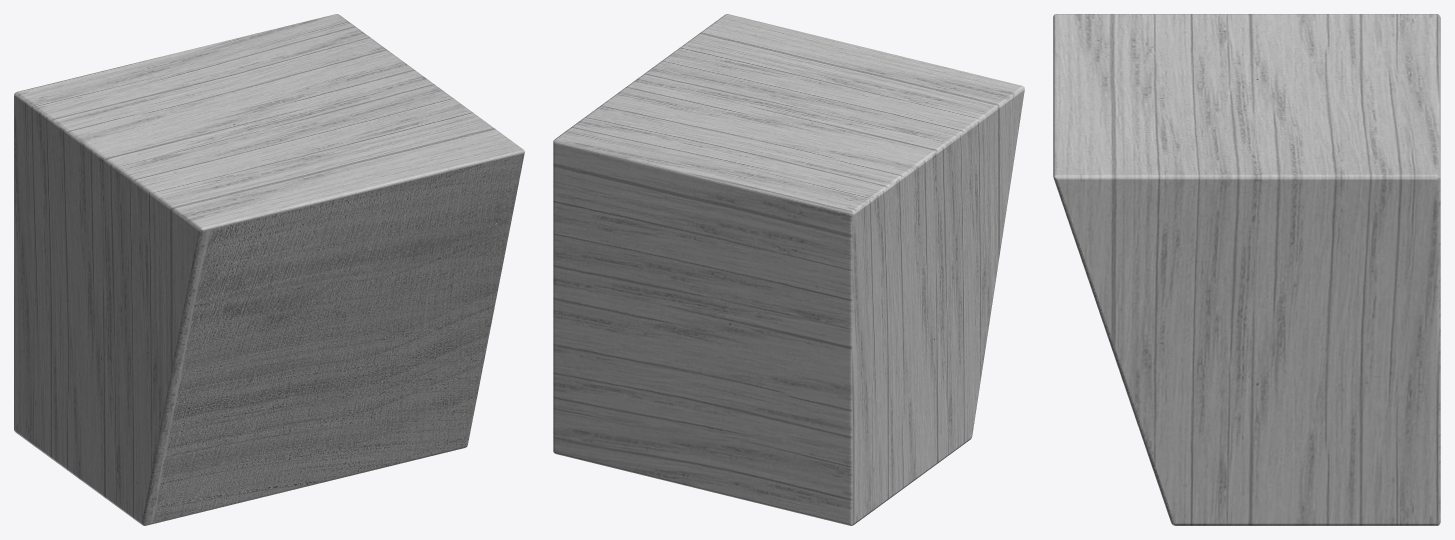
The model's file is cubo4.glb.
3 views of the same model, side by side, from view 1: azimuth 30°, elevation 25°; view 2: azimuth 150°, elevation 25°; view 3: azimuth 270°, elevation 25° (orthographic). The views are drawn at different scales.
Visible parts, largest first — view 1: Cubo optimizado 1.4; view 2: Cubo optimizado 1.4; view 3: Cubo optimizado 1.4.
Boxes of the visible parts, <box> form: Cubo optimizado 1.4: <box>14,14,524,525</box>; Cubo optimizado 1.4: <box>553,14,1024,525</box>; Cubo optimizado 1.4: <box>1053,14,1440,525</box>.
Bounding box in the file's own units: 2 × 2 × 2.
1 material, 1 textured.
